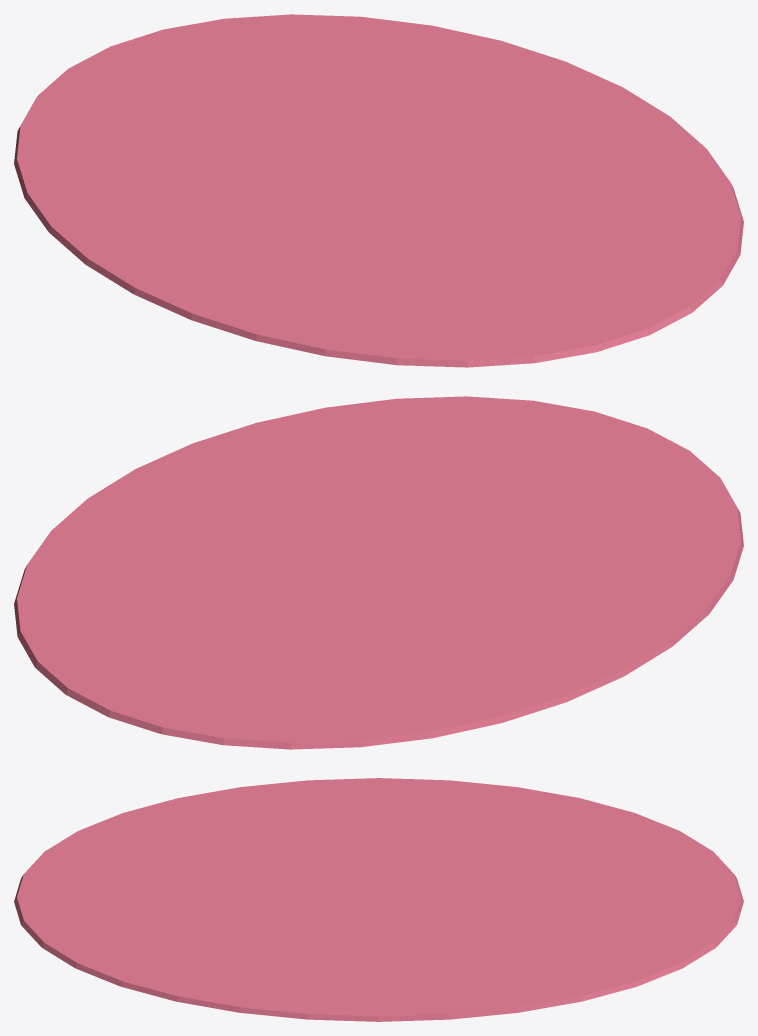
File: girl Room Update Jan 2026 rug.fbx
3 renders of one model, top to bottom at view 1: azimuth 30°, elevation 25°; view 2: azimuth 150°, elevation 25°; view 3: azimuth 270°, elevation 25°, orthographic. The views are drawn at different scales.
Parts seen in each view (by area): view 1: Circle; view 2: Circle; view 3: Circle.
Part boxes in pixels (left/top/right/bottom): Circle: left=14, top=14, right=743, bottom=367; Circle: left=14, top=396, right=743, bottom=749; Circle: left=14, top=778, right=743, bottom=1021.
Size of the model in its own units: 338 by 2.99 by 433.
